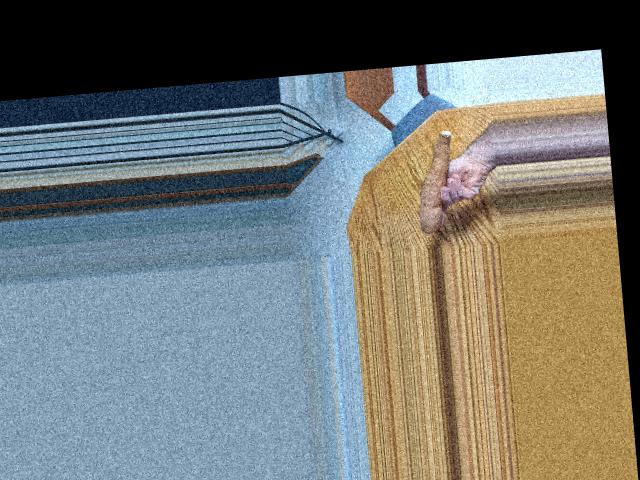sweet_potato: (405, 127, 459, 231)
